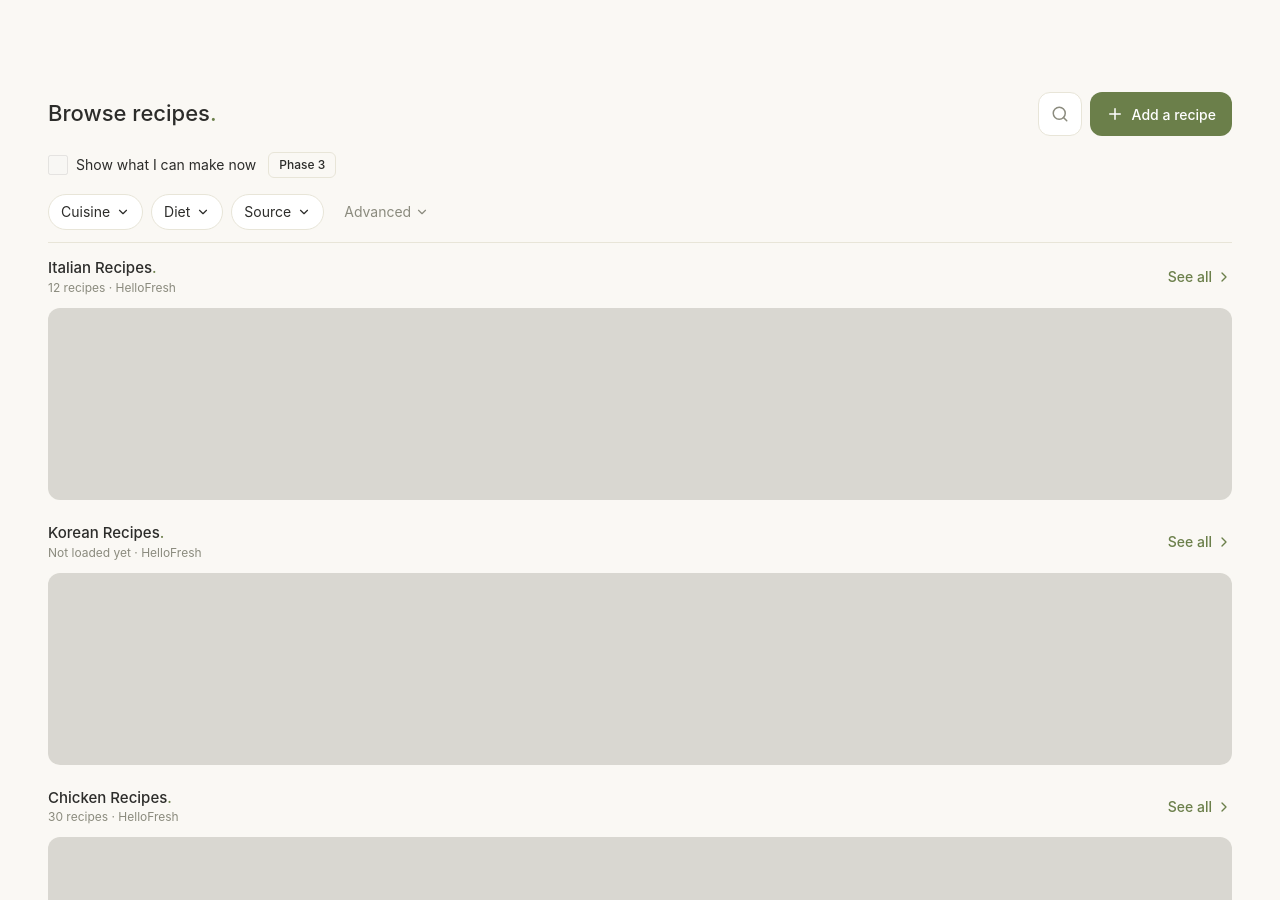
Test: Recipes page — themes › theme bar › lists values with their totals in the dropdown
Click the button "Cuisine".
click(96, 212)  # box [48,194,143,230]
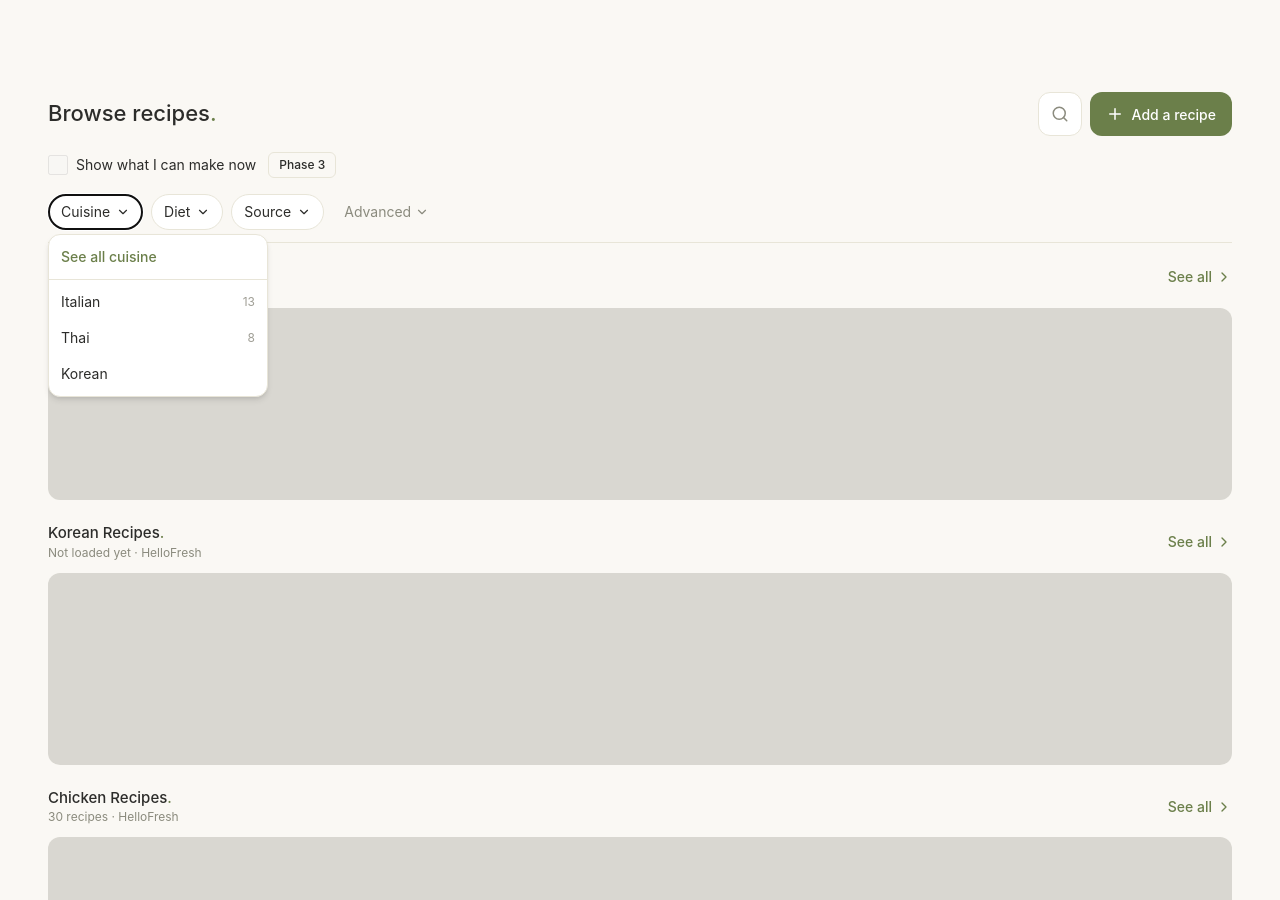
Result: the menu item "See all cuisine" is shown at [49,239,267,275]
Result: the menu item "Italian 13" is shown at [49,284,267,320]
Result: the menu item "Korean" is shown at [49,356,267,392]
